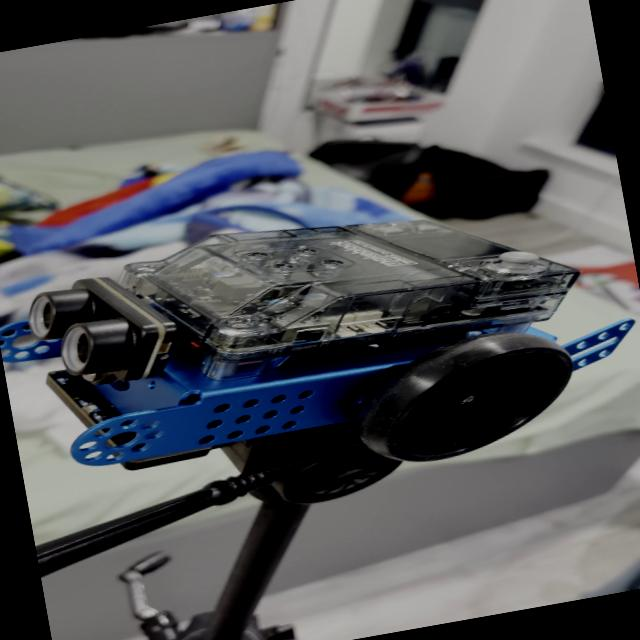mbot-detection: (0, 153, 640, 542)
